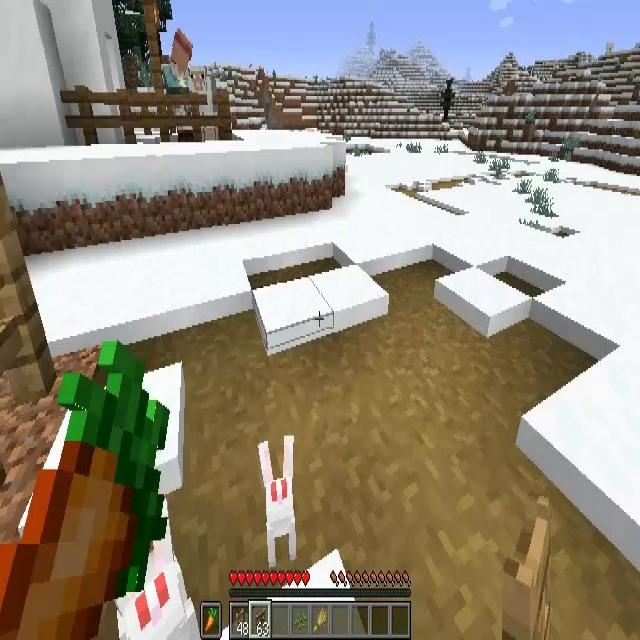duck: (114, 535, 201, 640), (260, 434, 298, 565)
